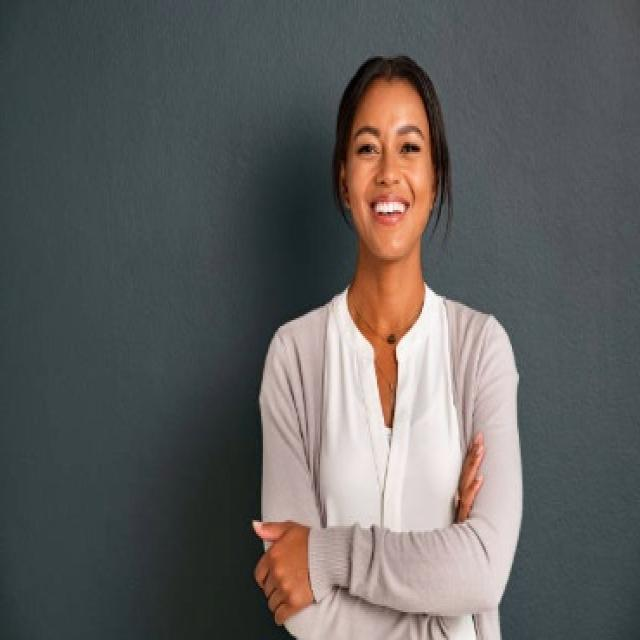adult: (229, 45, 525, 640)
